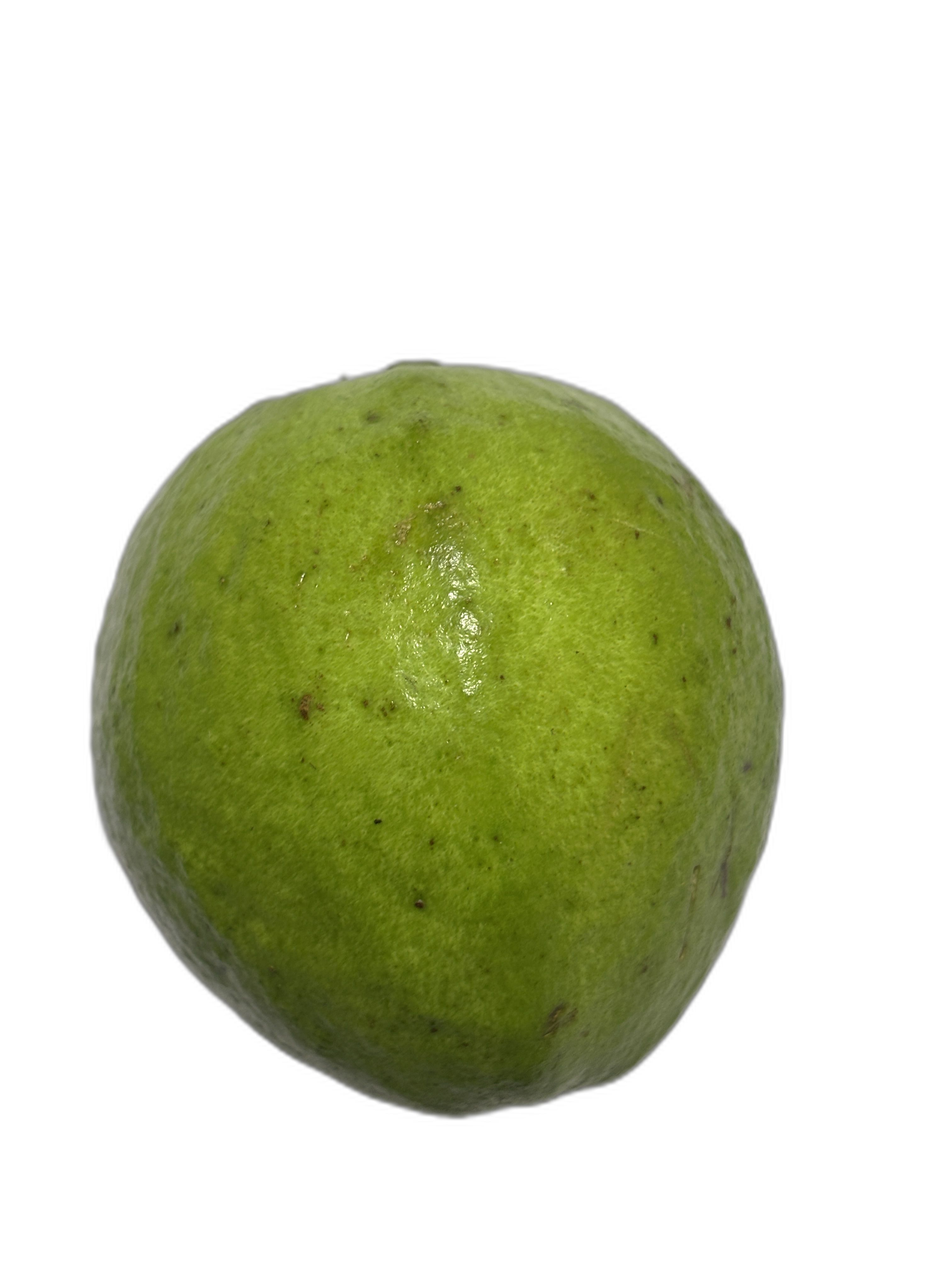guava: (100, 0, 733, 1088)
